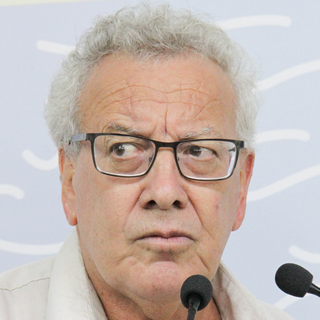eye: (103, 140, 145, 164), (180, 142, 221, 165)
